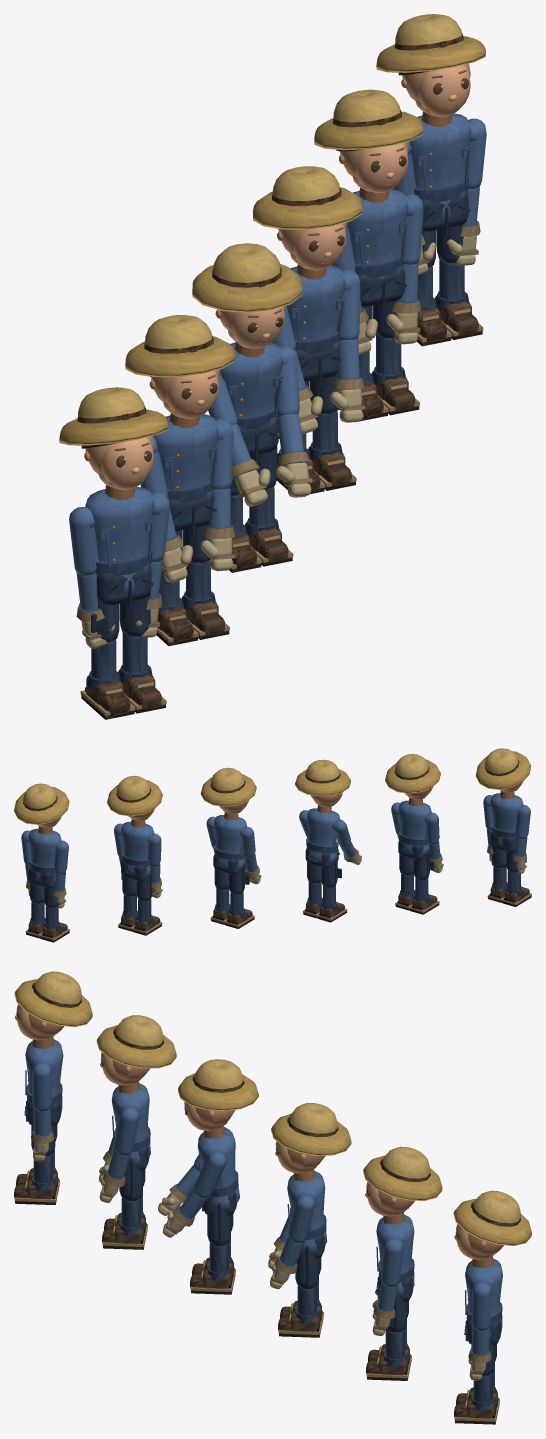
Rendered from ba-inspect-tq-before.glb.
3 views of the same model, one above another, from view 1: azimuth 30°, elevation 25°; view 2: azimuth 150°, elevation 25°; view 3: azimuth 270°, elevation 25° (orthographic). The views are drawn at different scales.
Parts seen in each view (by area): view 1: strawHat (×6), denimJacketTorso (×6), head (×6), leftShin (×6), rightShin (×5), trouserHips (×6), leftUpperArm (×6), leftHandMesh (×5), rightHandMesh (×3), leftLowerArm (×2), rightUpperArm, leftThigh (+1 smaller); view 2: strawHat (×6), denimJacketTorso (×6), rightShin (×6), leftShin (×6), rightUpperArm (×6), trouserHips (×6), rightThigh (×5), leftThigh (×6), leftUpperArm (×2), head; view 3: strawHat (×6), denimJacketTorso (×6), leftShin (×6), leftUpperArm (×6), head (×6), leftThigh (×3).
Boxes of the visible parts, box(x1,y1,x2,y2) form: strawHat (×6): box(59, 14, 485, 445); denimJacketTorso (×6): box(85, 111, 471, 591); head (×6): box(81, 63, 470, 489); leftShin (×6): box(118, 259, 483, 713); rightShin (×5): box(80, 266, 451, 719); trouserHips (×6): box(96, 191, 470, 608); leftUpperArm (×6): box(148, 118, 486, 561); leftHandMesh (×5): box(200, 222, 480, 571); rightHandMesh (×3): box(161, 386, 323, 582); leftLowerArm (×2): box(277, 339, 362, 465); rightUpperArm: box(69, 507, 98, 575); leftThigh: box(119, 593, 150, 636); strawHat (×6): box(14, 748, 531, 824); denimJacketTorso (×6): box(28, 791, 523, 882); rightShin (×6): box(40, 870, 531, 942); leftShin (×6): box(25, 866, 507, 938); rightUpperArm (×6): box(54, 805, 530, 874); trouserHips (×6): box(28, 831, 516, 888); rightThigh (×5): box(44, 849, 434, 907); leftThigh (×6): box(30, 847, 506, 903); leftUpperArm (×2): box(21, 795, 493, 865); head: box(310, 792, 342, 807); strawHat (×6): box(14, 971, 531, 1245); denimJacketTorso (×6): box(25, 1037, 502, 1338); leftShin (×6): box(14, 1153, 497, 1424); leftUpperArm (×6): box(32, 1062, 491, 1330); head (×6): box(15, 1004, 503, 1259); leftThigh (×3): box(119, 1158, 318, 1289).
Size of what is drawn, in the model's own units: 5.95 by 2.43 by 5.14.
